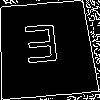E: (21, 24, 62, 73)
